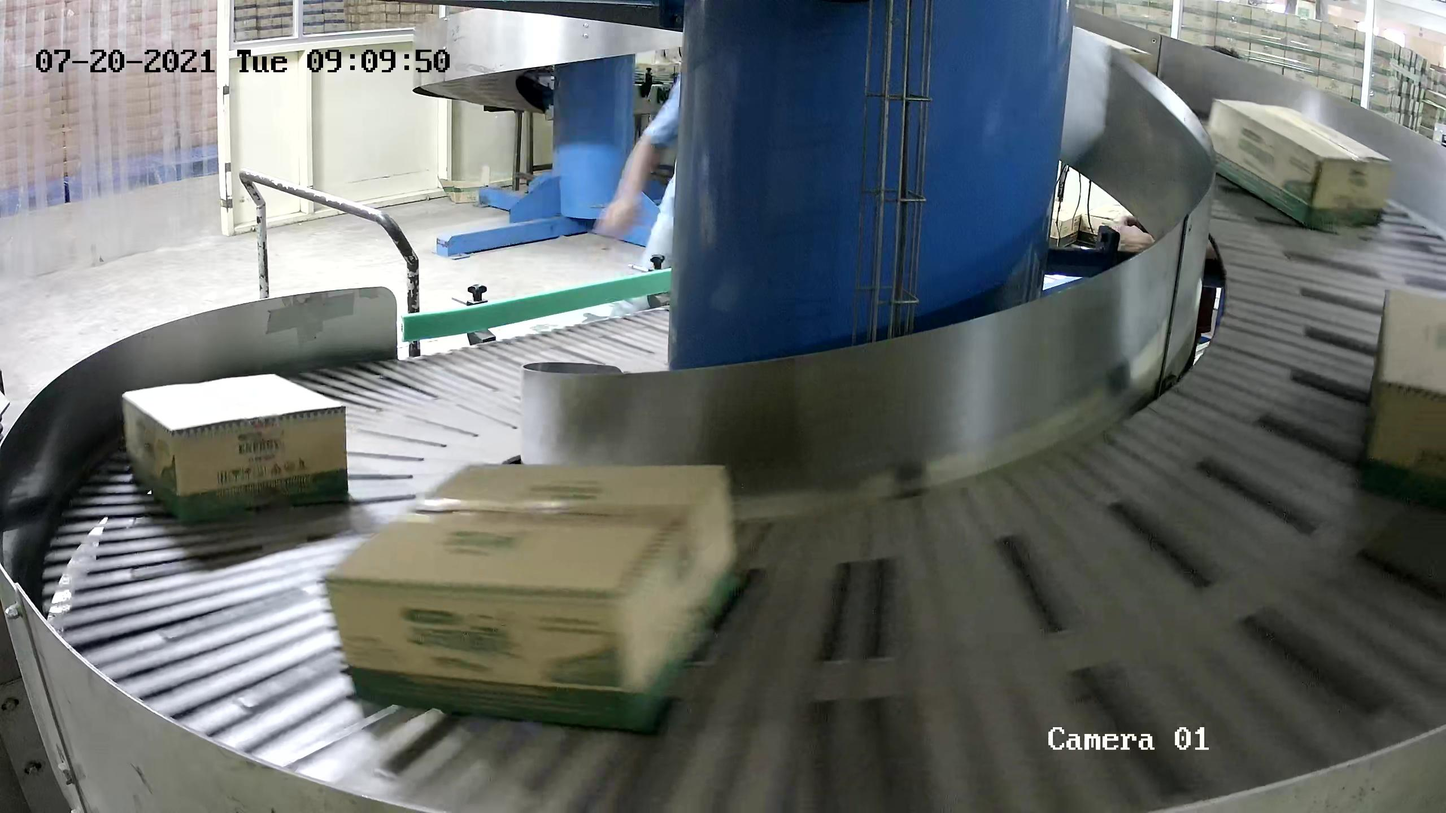Box: (319, 458, 745, 739), (120, 370, 351, 523), (1204, 92, 1395, 232), (1362, 285, 1446, 501)
